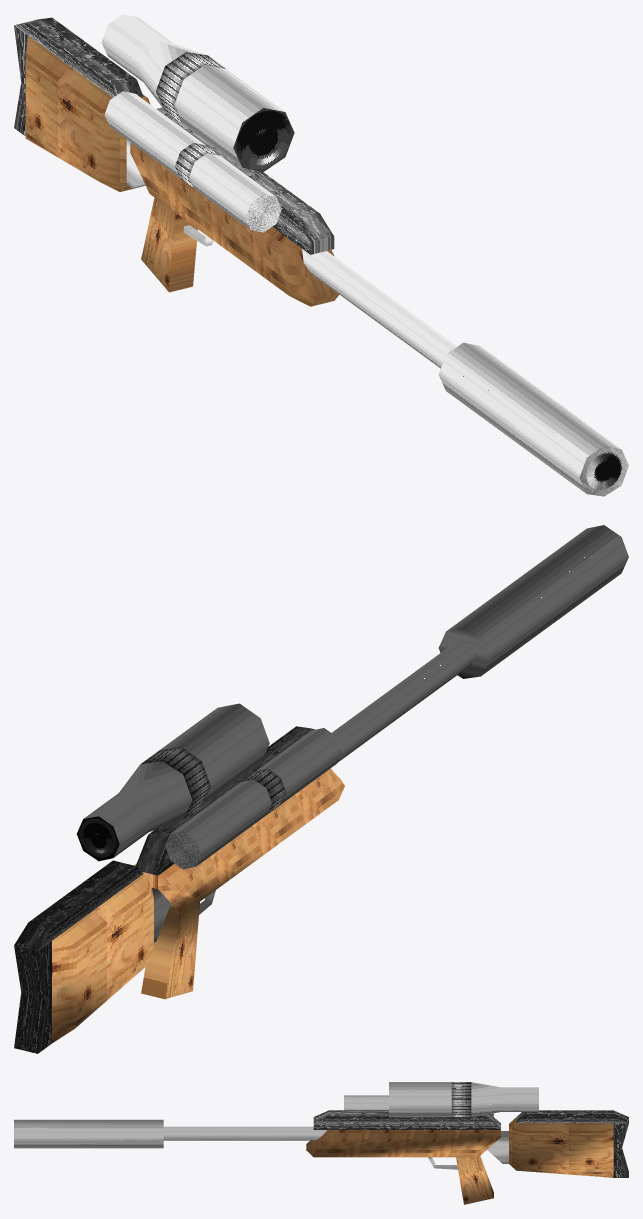
The model's file is GsniperrifleZ.obj.
The picture shows the model from 3 angles, top to bottom: view 1: azimuth 30°, elevation 25°; view 2: azimuth 150°, elevation 25°; view 3: azimuth 270°, elevation 25°; orthographic projection. The views are drawn at different scales.
Size of the model in its own units: 100 by 240 by 1092.
11 materials, 11 textured.
